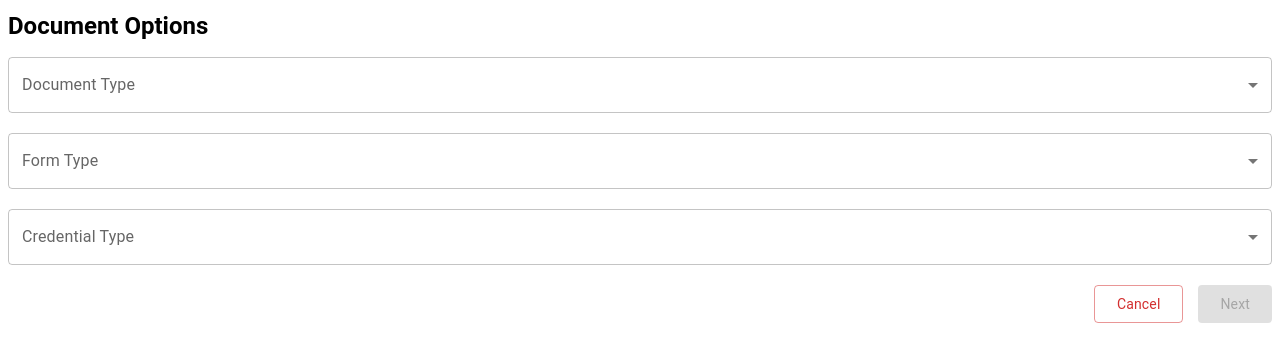
VCOptions › form type › should display form types
The width and height of the screenshot is (1280, 340).
Press the mouse on the dropdown next to "Form Type" at point(640, 161), box [8, 133, 1272, 189]
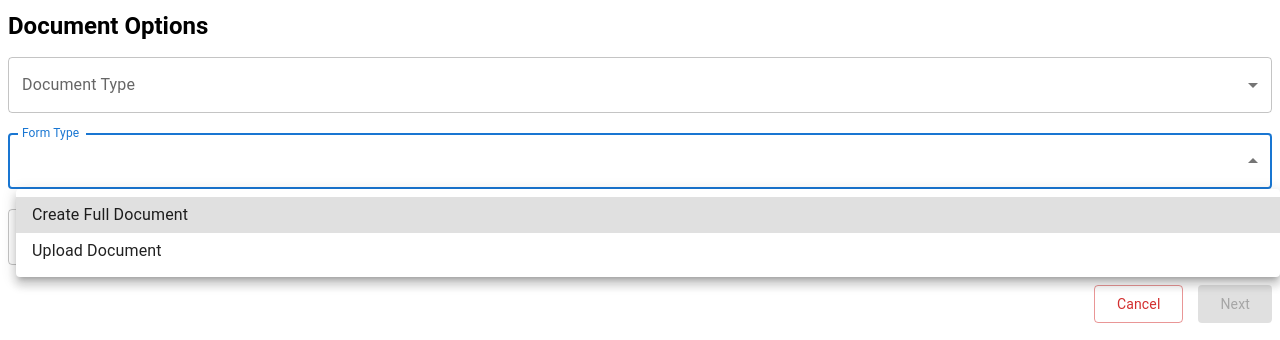
Check: the option "Upload Document" is shown, box [32, 241, 162, 260]
Check: the option "Create Full Document" is shown, box [16, 197, 1279, 233]
